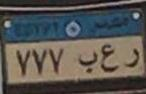7: (48, 46, 66, 74), (14, 50, 30, 76), (32, 49, 47, 75)
ain: (100, 42, 118, 74)
baa: (78, 50, 99, 74)
raa: (125, 46, 142, 70)
